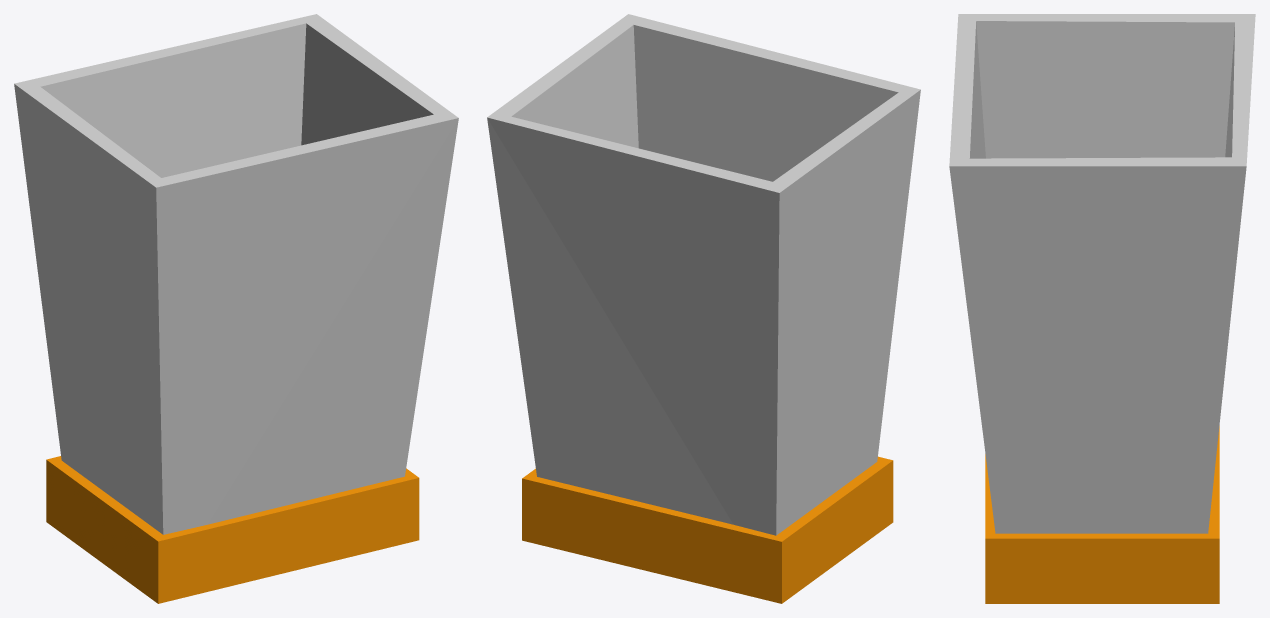
The picture shows the model from 3 angles, left to right: view 1: azimuth 30°, elevation 25°; view 2: azimuth 150°, elevation 25°; view 3: azimuth 270°, elevation 25°; orthographic projection. The views are drawn at different scales.
Visible parts, largest first — view 1: mesh_1859685691, mesh_1538052880; view 2: mesh_1859685691, mesh_1538052880; view 3: mesh_1859685691, mesh_1538052880.
Part boxes in pixels (x1,y1,x2,y2): mesh_1859685691: (14, 14, 458, 534); mesh_1538052880: (46, 456, 419, 603); mesh_1859685691: (487, 14, 920, 535); mesh_1538052880: (522, 456, 893, 603); mesh_1859685691: (949, 14, 1255, 533); mesh_1538052880: (985, 426, 1219, 603).
Size of the model in its own units: 40 by 55 by 34.
